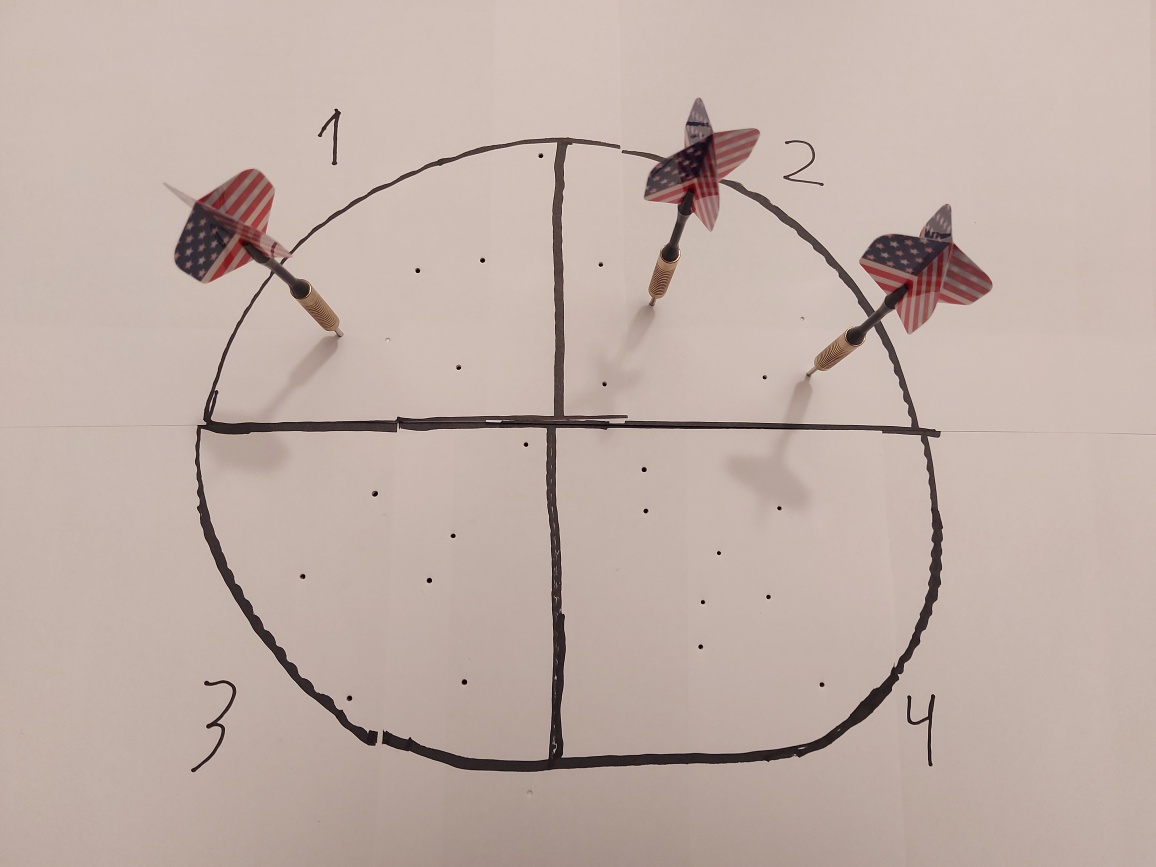Dart: (155, 162, 355, 348), (803, 196, 995, 387), (629, 91, 764, 324)
